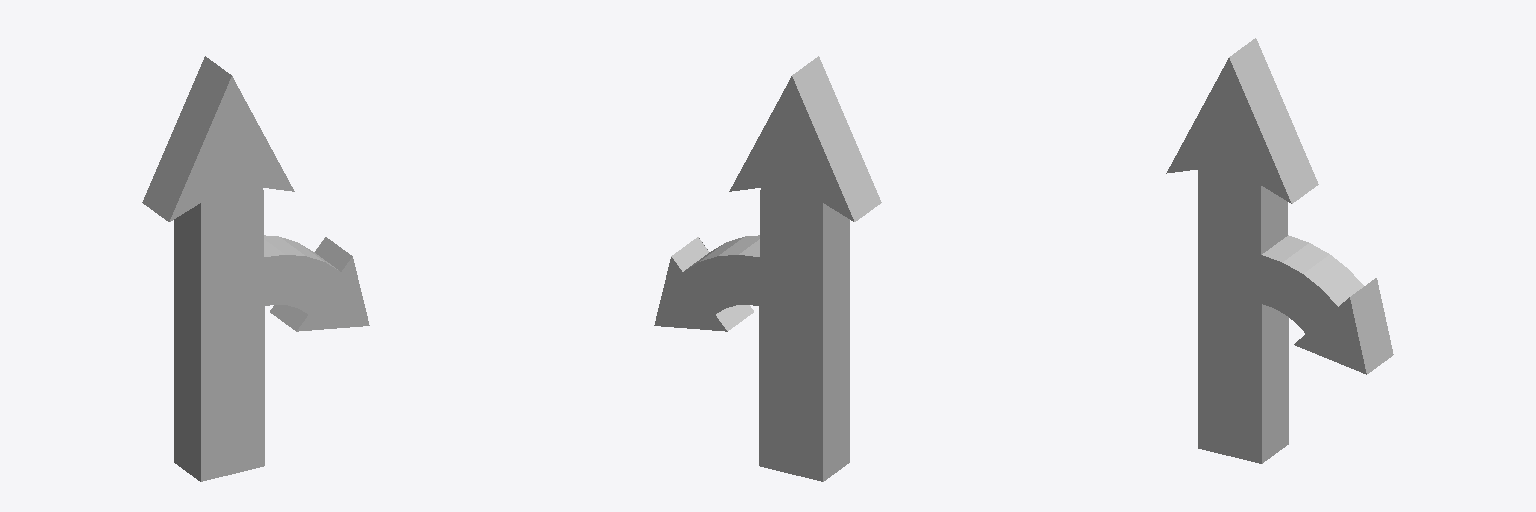
File: Arrow_64.obj
3 renders of one model, left to right at view 1: azimuth 30°, elevation 25°; view 2: azimuth 150°, elevation 25°; view 3: azimuth 330°, elevation 25°, orthographic.
Parts seen in each view (by area): view 1: Arrow_64; view 2: Arrow_64; view 3: Arrow_64.
Boxes of the visible parts, x1,y1,x2,y2 form: Arrow_64: [142, 56, 369, 481]; Arrow_64: [654, 56, 881, 481]; Arrow_64: [1166, 38, 1393, 463].
Size of the model in its own units: 3.19 by 6.06 by 0.7423.